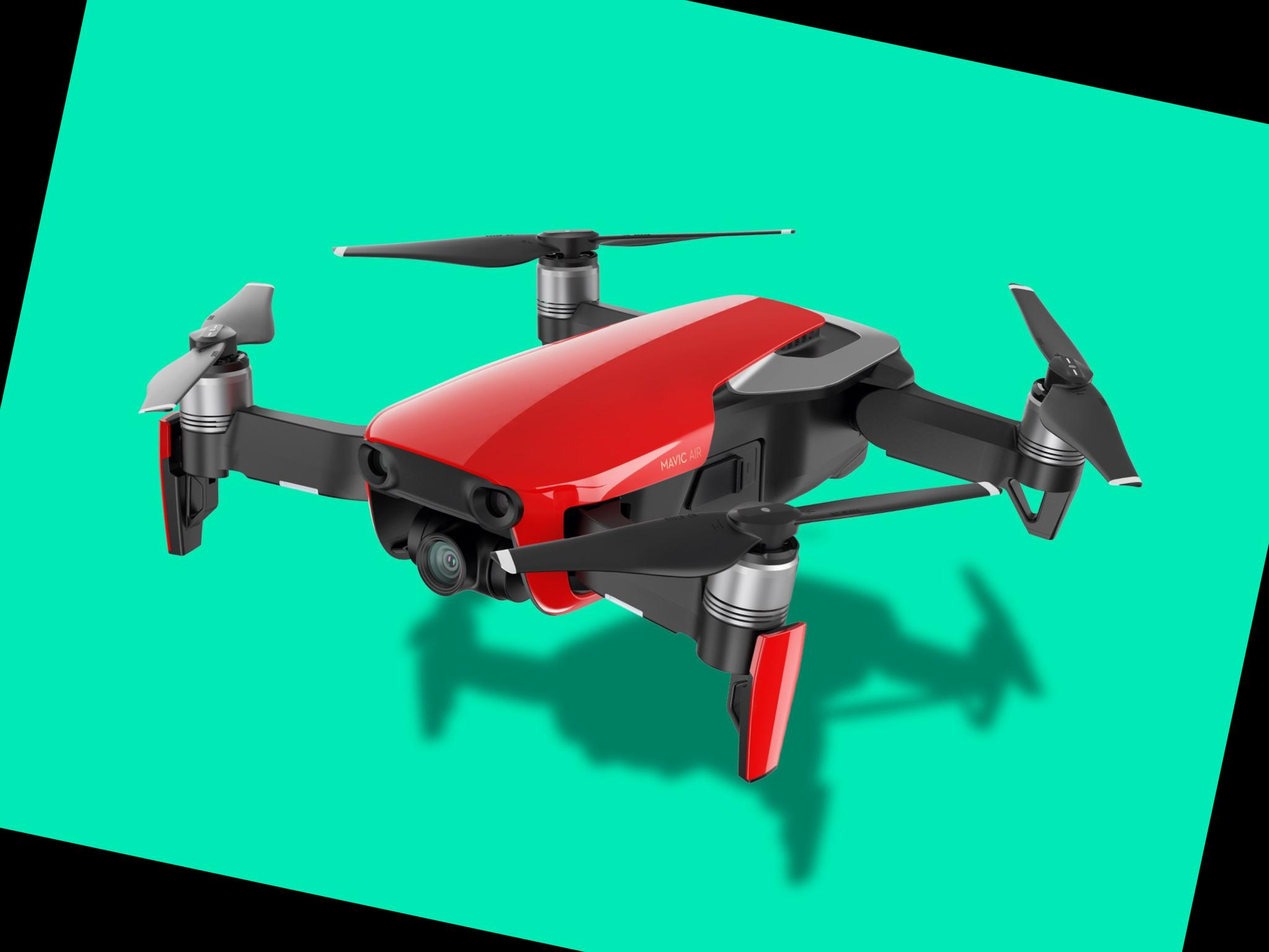drone: (95, 117, 1222, 855)
